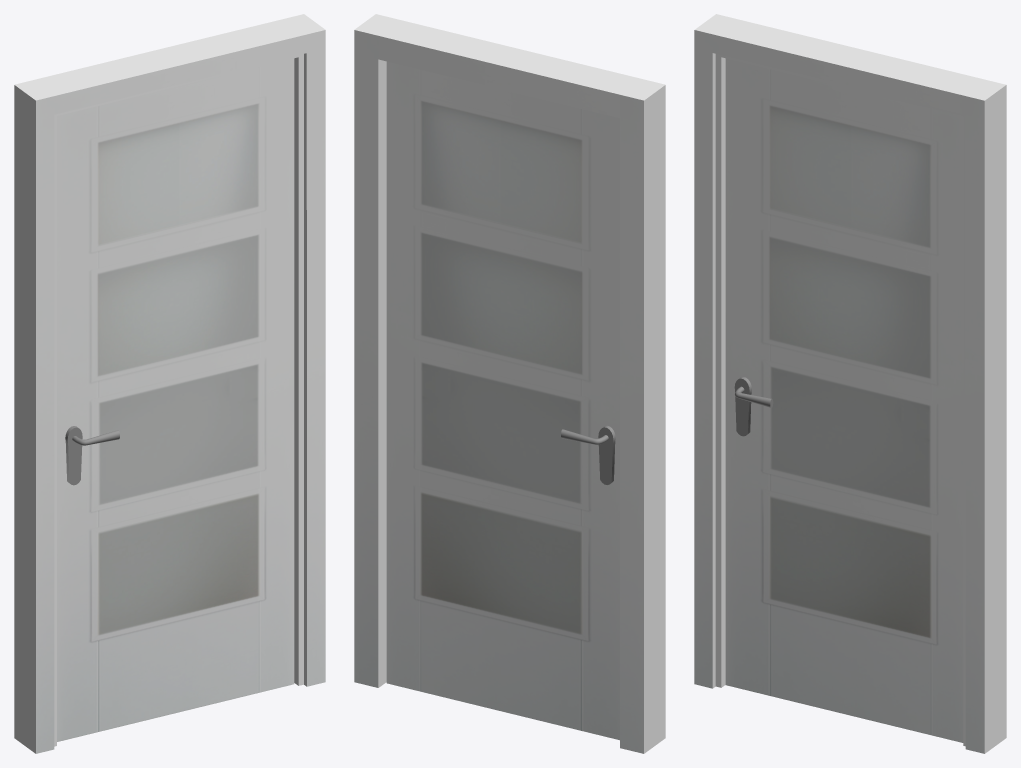
File: Door.FBX
3 renders of one model, left to right at view 1: azimuth 30°, elevation 25°; view 2: azimuth 150°, elevation 25°; view 3: azimuth 330°, elevation 25°, orthographic.
Parts seen in each view (by area): view 1: Door, door frame; view 2: Door, door frame; view 3: Door, door frame.
Part boxes in pixels (x1,y1,x2,y2): Door: (57, 58, 294, 741); door frame: (14, 14, 325, 753); Door: (386, 61, 619, 740); door frame: (354, 14, 665, 753); Door: (725, 58, 963, 742); door frame: (694, 14, 1006, 753).
Bounding box in the file's own units: 96.56 × 208 × 16.78.
Materials: 2 (1 with a texture image).
